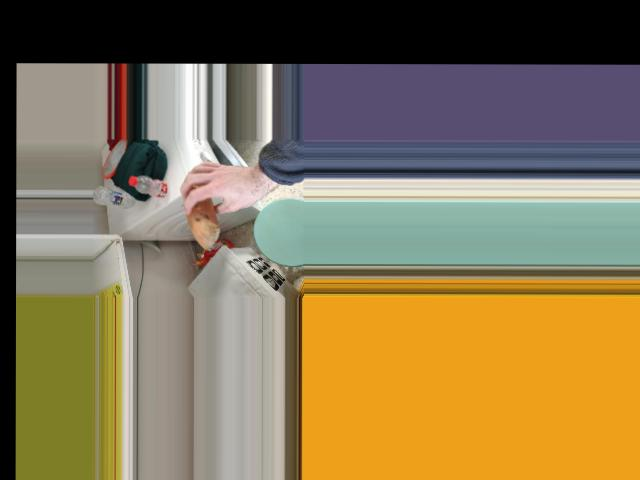sweet_potato: (187, 178, 218, 247)
